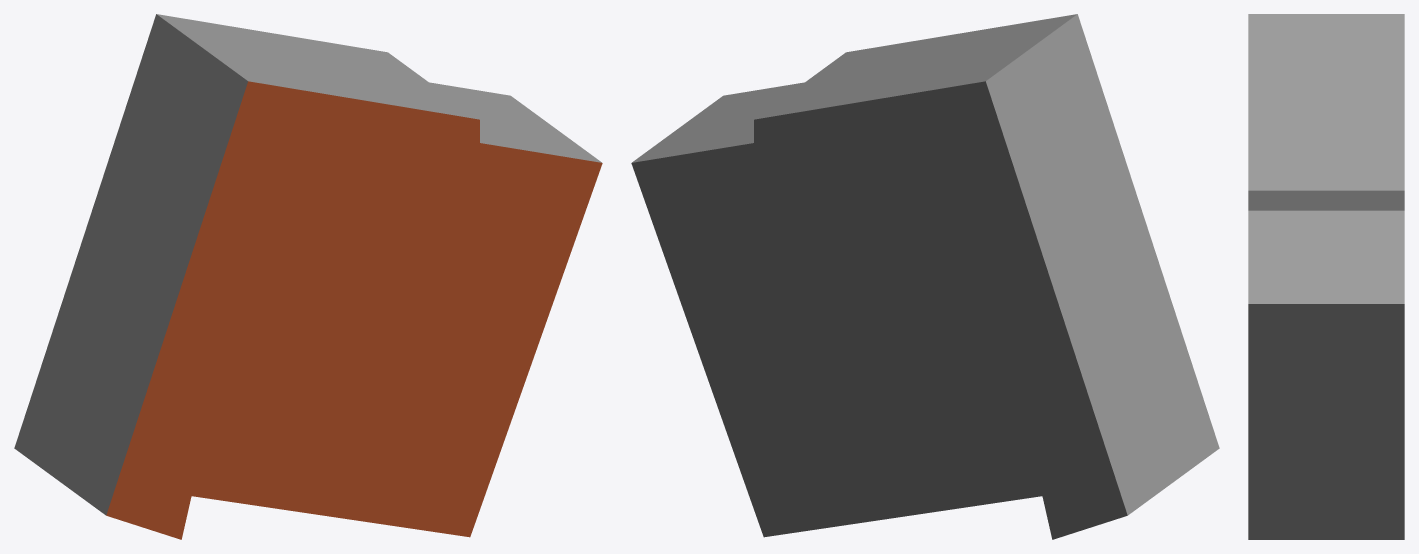
The model's file is construction_4277_assumed_A_Casa_h6m.obj.
3 views of the same model, side by side, from view 1: azimuth 30°, elevation 25°; view 2: azimuth 150°, elevation 25°; view 3: azimuth 270°, elevation 25° (orthographic). The views are drawn at different scales.
Parts seen in each view (by area): view 1: construction_4277_assumed_A_Casa; view 2: construction_4277_assumed_A_Casa; view 3: construction_4277_assumed_A_Casa.
Part boxes in pixels (box(x1,y1,x2,y2)): construction_4277_assumed_A_Casa: box(14, 14, 602, 539); construction_4277_assumed_A_Casa: box(631, 14, 1219, 539); construction_4277_assumed_A_Casa: box(1248, 14, 1404, 539).
Bounding box in the file's own units: 18.71 × 18.37 × 6.
